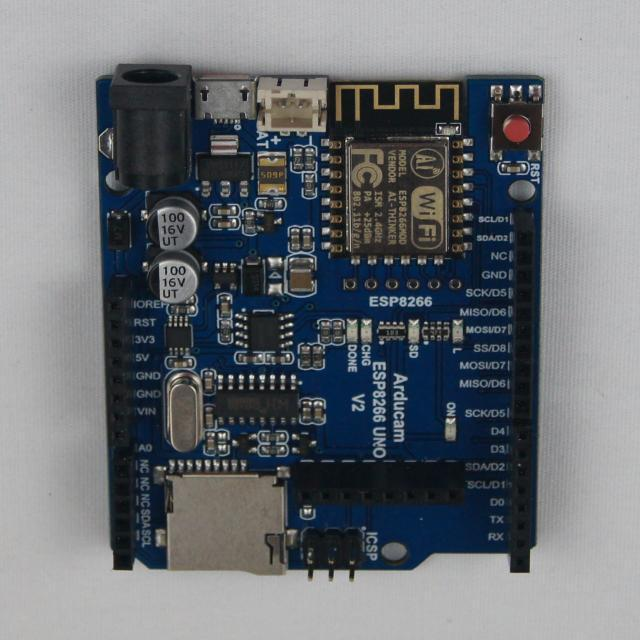Arduino Uno Camera Shield: (97, 65, 543, 580)
